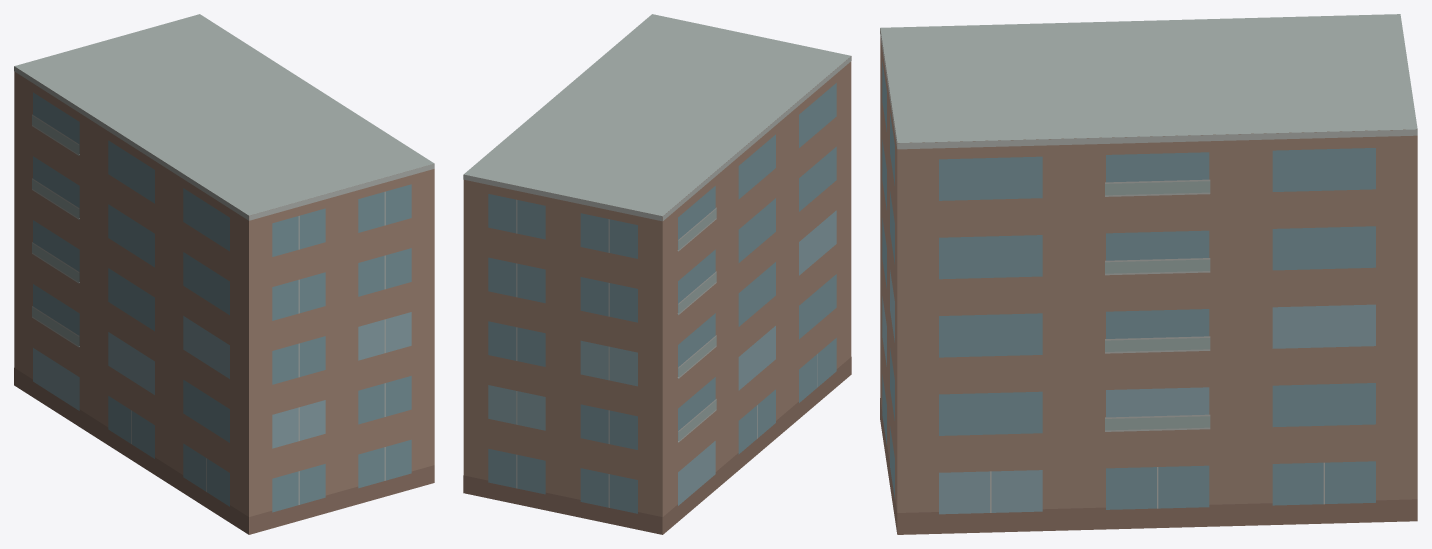
The model's file is survey-upis-32657902.glb.
The picture shows the model from 3 angles, left to right: view 1: azimuth 30°, elevation 25°; view 2: azimuth 150°, elevation 25°; view 3: azimuth 270°, elevation 25°; orthographic projection. The views are drawn at different scales.
Parts seen in each view (by area): view 1: survey-upis-32657902.tmp; view 2: survey-upis-32657902.tmp; view 3: survey-upis-32657902.tmp.
Boxes of the visible parts, x1,y1,x2,y2 form: survey-upis-32657902.tmp: (14,14,434,534); survey-upis-32657902.tmp: (463,14,851,534); survey-upis-32657902.tmp: (880,14,1417,534).
Bounding box in the file's own units: 10.72 × 15.15 × 18.85.
